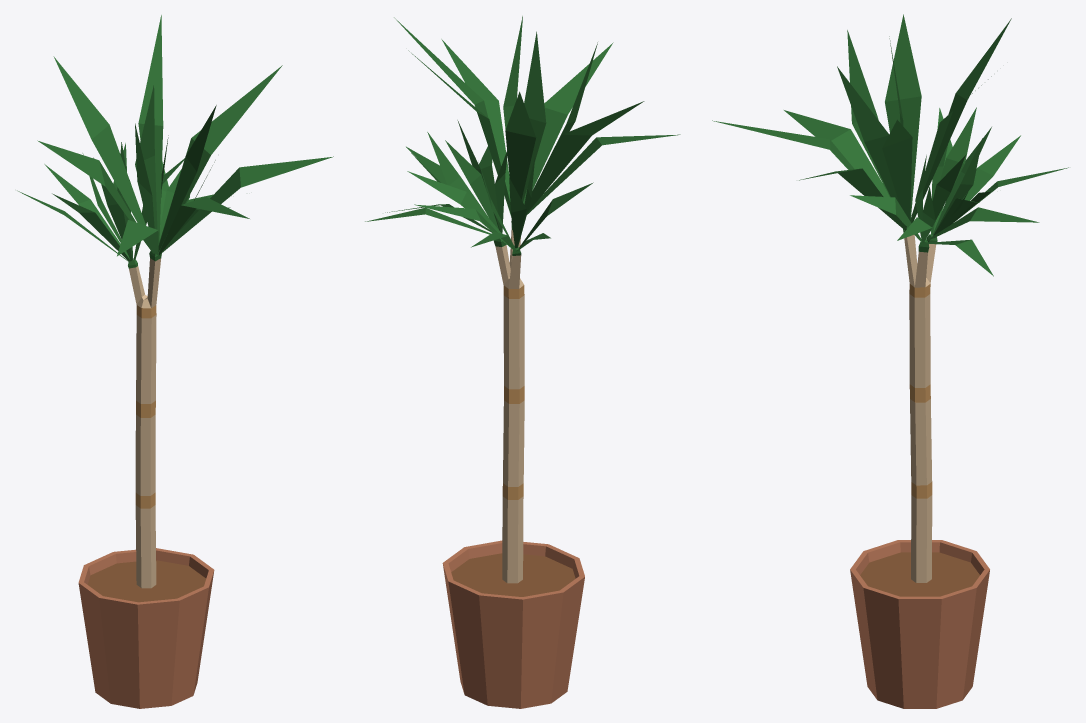
File: furniture_pot-medium-circle-plant.fbx
The picture shows the model from 3 angles, left to right: view 1: azimuth 30°, elevation 25°; view 2: azimuth 150°, elevation 25°; view 3: azimuth 270°, elevation 25°; orthographic projection. The views are drawn at different scales.
Visible parts, largest first — view 1: furniture_pot_medium_circle_plant; view 2: furniture_pot_medium_circle_plant; view 3: furniture_pot_medium_circle_plant.
Part boxes in pixels (x1,y1,x2,y2): furniture_pot_medium_circle_plant: [17, 15, 333, 708]; furniture_pot_medium_circle_plant: [365, 16, 680, 708]; furniture_pot_medium_circle_plant: [712, 14, 1068, 708].
Bounding box in the file's own units: 82.24 × 200 × 99.37.
